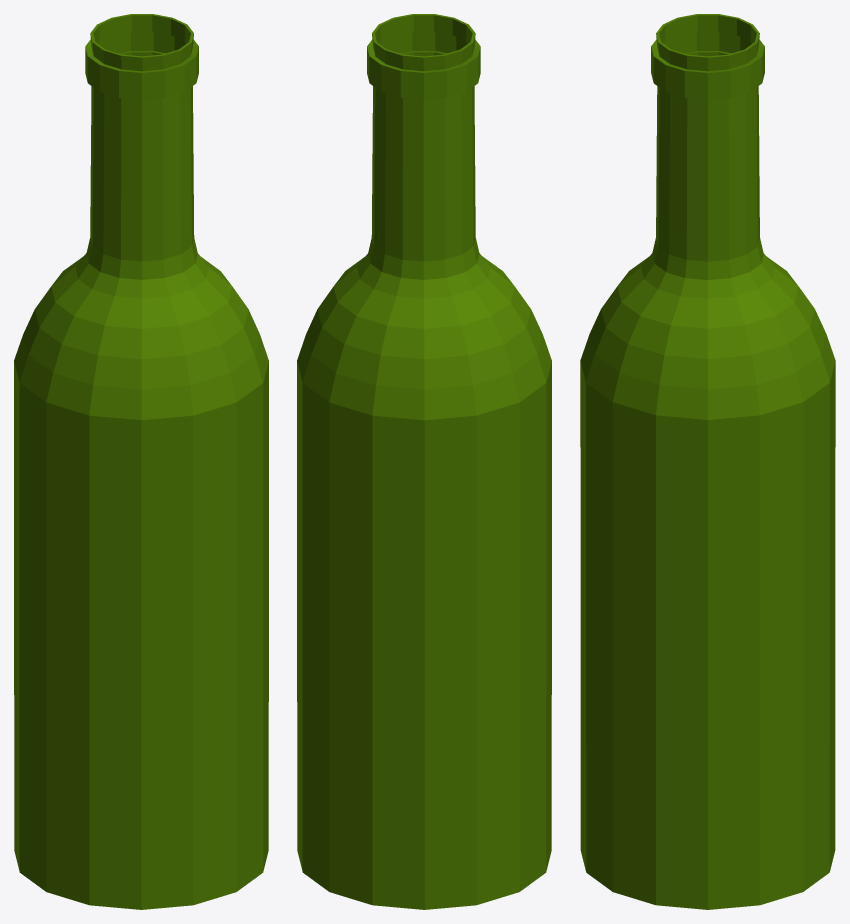
Rendered from bottle_FINAL.fbx.
3 renders of one model, left to right at view 1: azimuth 30°, elevation 25°; view 2: azimuth 150°, elevation 25°; view 3: azimuth 270°, elevation 25°, orthographic.
Visible parts, largest first — view 1: pCylinder1; view 2: pCylinder1; view 3: pCylinder1.
Part boxes in pixels (box(x1,y1,x2,y2)): pCylinder1: box(14, 14, 268, 909); pCylinder1: box(297, 14, 551, 909); pCylinder1: box(580, 14, 835, 909).
Bounding box in the file's own units: 6.24 × 22.28 × 6.28.
